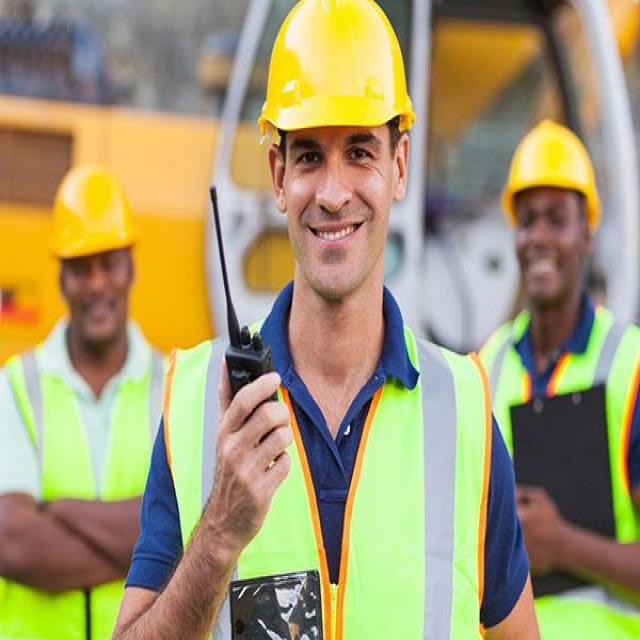Reflective-Jacket: (163, 314, 497, 634), (484, 301, 639, 634), (5, 337, 163, 640)
Safety-Helmet: (256, 2, 418, 142), (498, 112, 605, 222), (45, 155, 145, 264)
